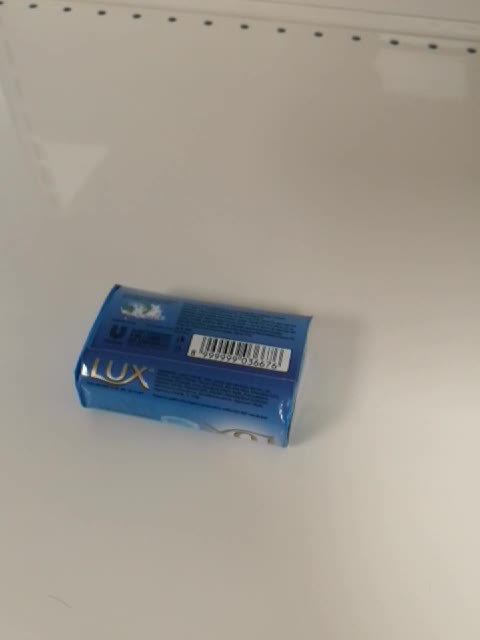soap: (73, 280, 315, 451)
